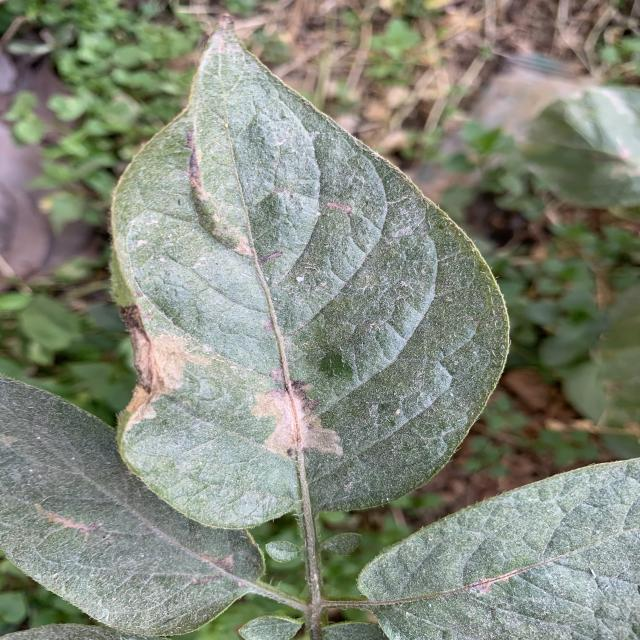lateblight: (120, 304, 212, 431), (252, 380, 343, 458)
